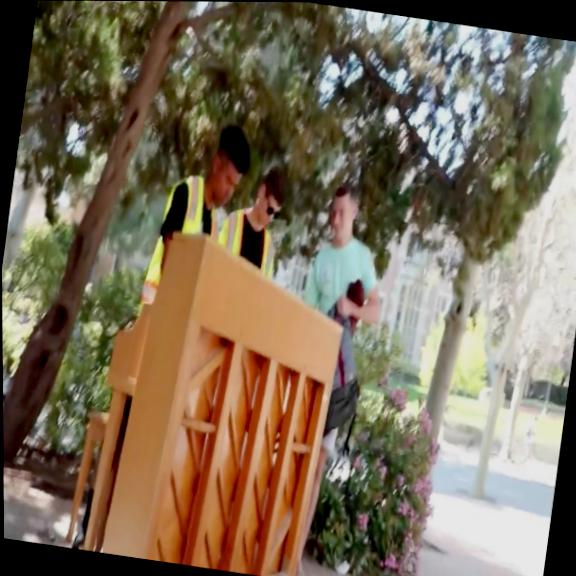safety_vest: (139, 167, 226, 316), (213, 205, 281, 279)
